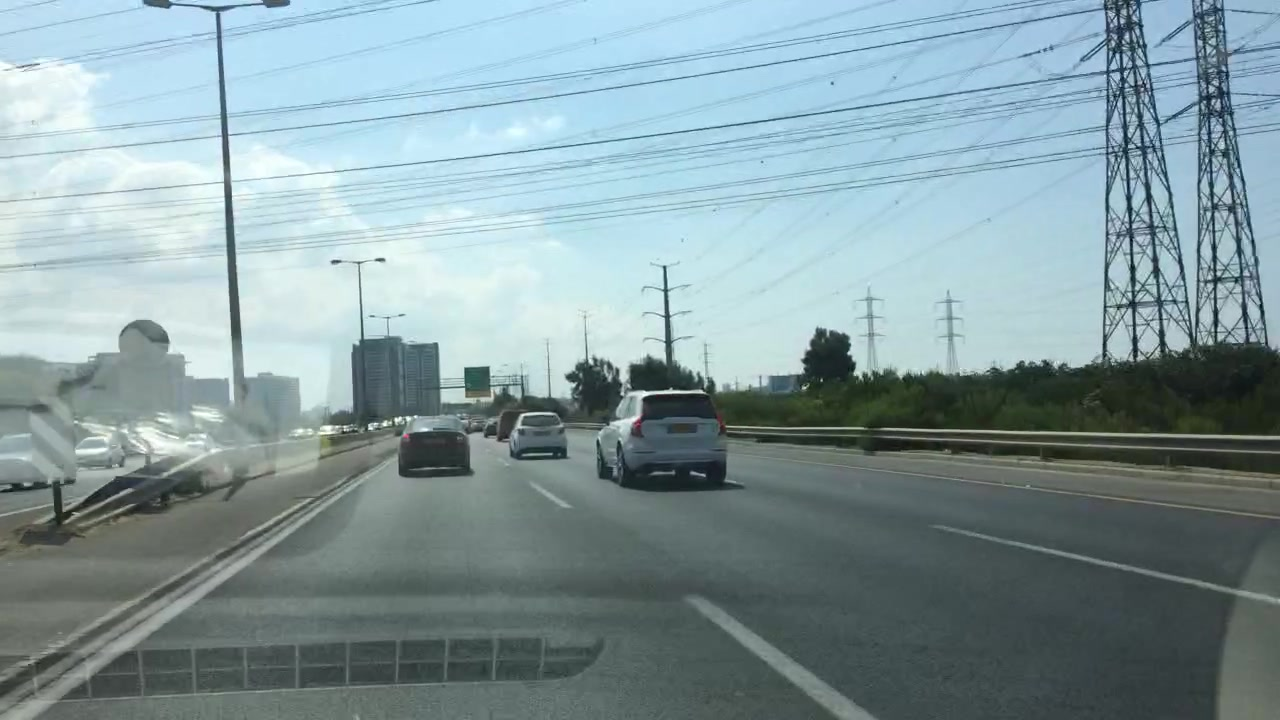licence: (665, 421, 700, 434)
